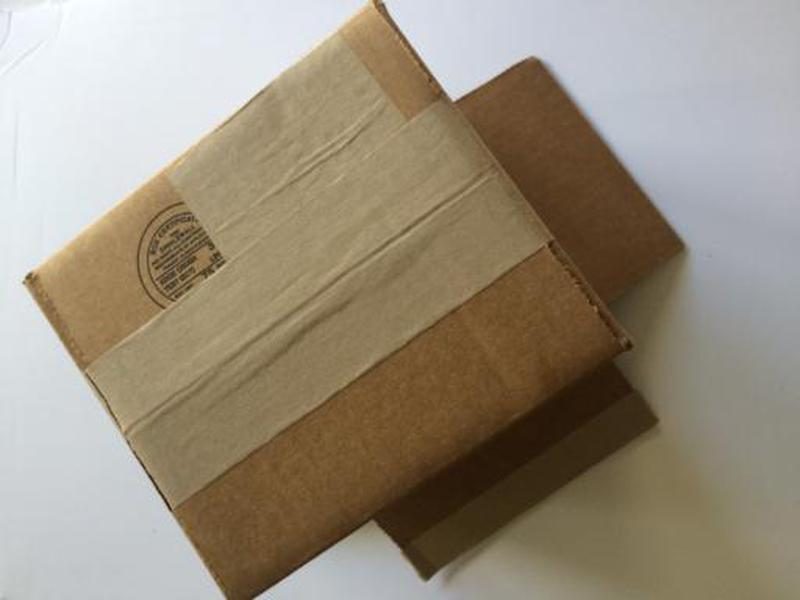cardboard: (21, 1, 689, 600)
